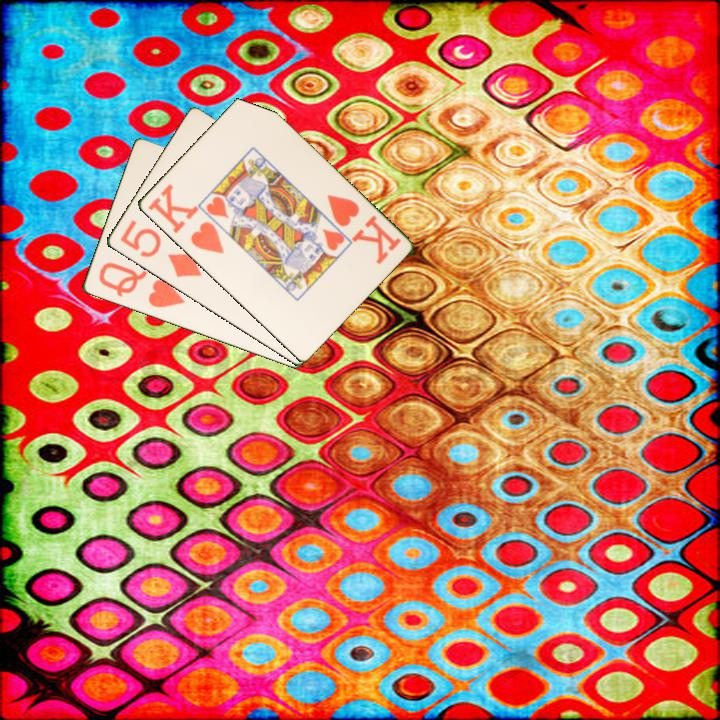5d: (116, 216, 205, 281)
Kh: (144, 180, 226, 257), (323, 191, 403, 267)
Qh: (95, 259, 187, 311)
